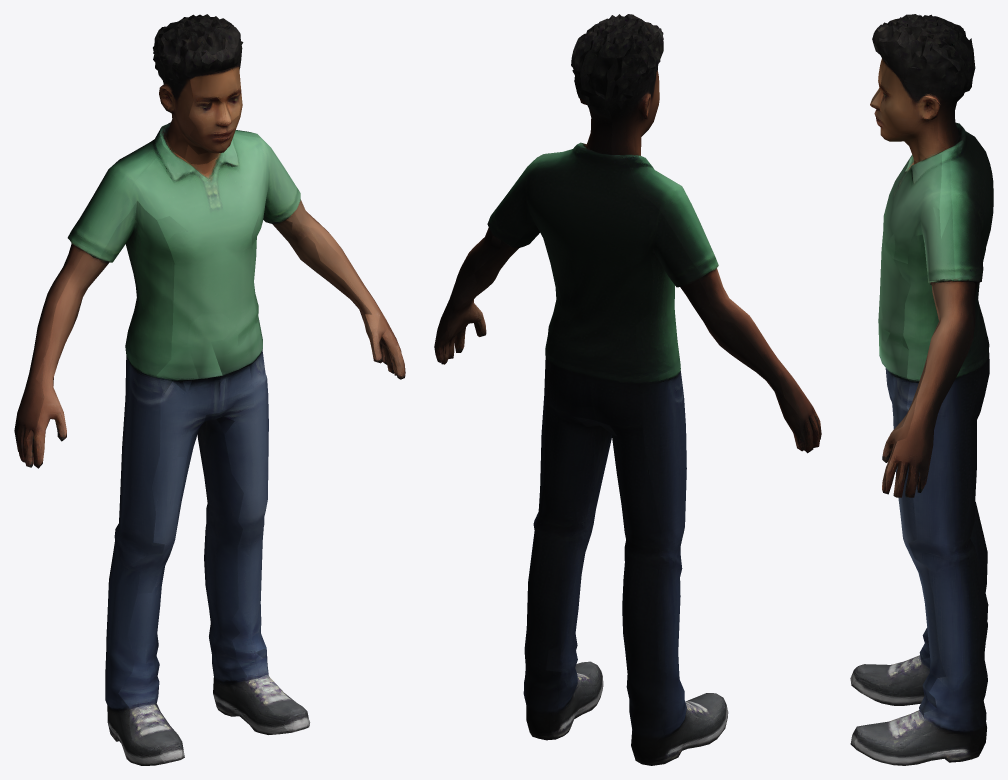
Rendered from Man.glb.
The picture shows the model from 3 angles, left to right: view 1: azimuth 30°, elevation 25°; view 2: azimuth 150°, elevation 25°; view 3: azimuth 270°, elevation 25°; orthographic projection.
Parts seen in each view (by area): view 1: world; view 2: world; view 3: world.
Part boxes in pixels (<box>): world: <box>14,14,405,765</box>; world: <box>434,14,821,765</box>; world: <box>850,14,993,765</box>.
Bounding box in the file's own units: 0.5552 × 1 × 0.1837.
1 material, 1 textured.
